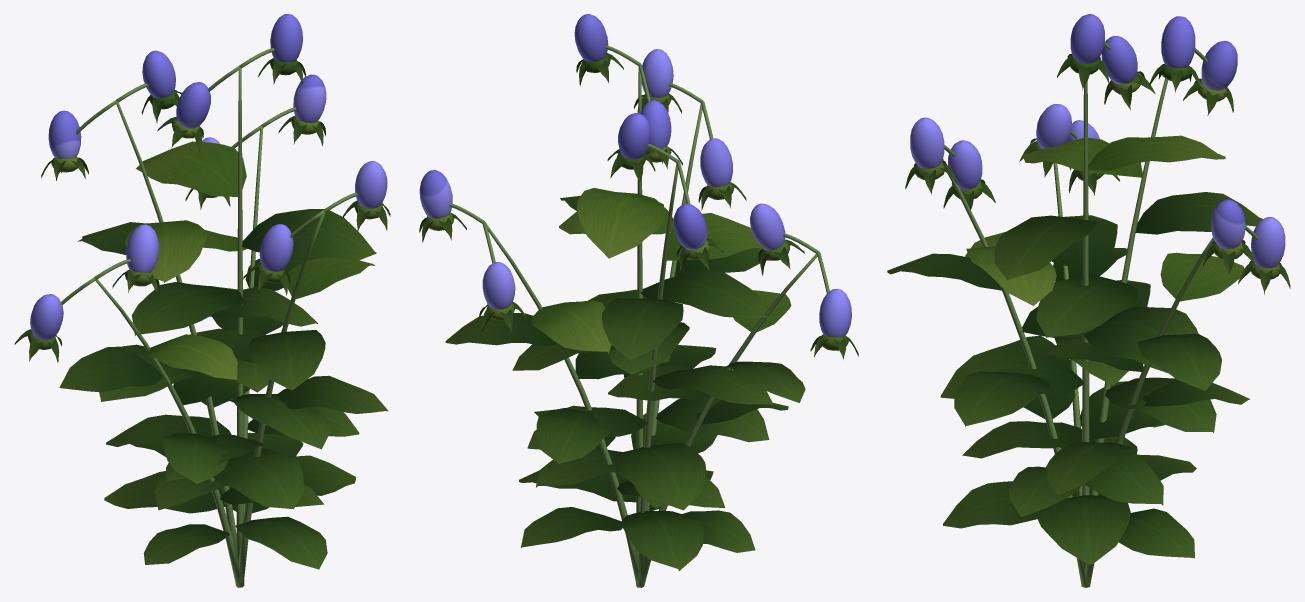
The model's file is bellflower-08-lod.glb.
3 renders of one model, left to right at view 1: azimuth 30°, elevation 25°; view 2: azimuth 150°, elevation 25°; view 3: azimuth 270°, elevation 25°, orthographic. The views are drawn at different scales.
Parts seen in each view (by area): view 1: bellflower_stage_08_leaf_veins.015, bellflower_stage_08_young_leaf.015, bellflower_stage_08_bellflower_petal.015, bellflower_stage_08_stem_fibres.015; view 2: bellflower_stage_08_leaf_veins.015, bellflower_stage_08_young_leaf.015, bellflower_stage_08_bellflower_petal.015, bellflower_stage_08_stem_fibres.015; view 3: bellflower_stage_08_leaf_veins.015, bellflower_stage_08_bellflower_petal.015, bellflower_stage_08_young_leaf.015, bellflower_stage_08_stem_fibres.015.
Boxes of the visible parts, x1,y1,x2,y2 form: bellflower_stage_08_leaf_veins.015: (14, 58, 390, 569); bellflower_stage_08_young_leaf.015: (28, 59, 382, 379); bellflower_stage_08_bellflower_petal.015: (30, 14, 387, 340); bellflower_stage_08_stem_fibres.015: (61, 48, 357, 587); bellflower_stage_08_leaf_veins.015: (419, 53, 858, 570); bellflower_stage_08_young_leaf.015: (426, 54, 848, 353); bellflower_stage_08_bellflower_petal.015: (419, 14, 851, 337); bellflower_stage_08_stem_fibres.015: (449, 45, 829, 587); bellflower_stage_08_leaf_veins.015: (887, 53, 1290, 565); bellflower_stage_08_bellflower_petal.015: (910, 14, 1285, 268); bellflower_stage_08_young_leaf.015: (915, 55, 1280, 305); bellflower_stage_08_stem_fibres.015: (943, 42, 1258, 587).
Size of the model in its own units: 0.4037 by 0.5862 by 0.3585.
4 materials, 3 textured.
